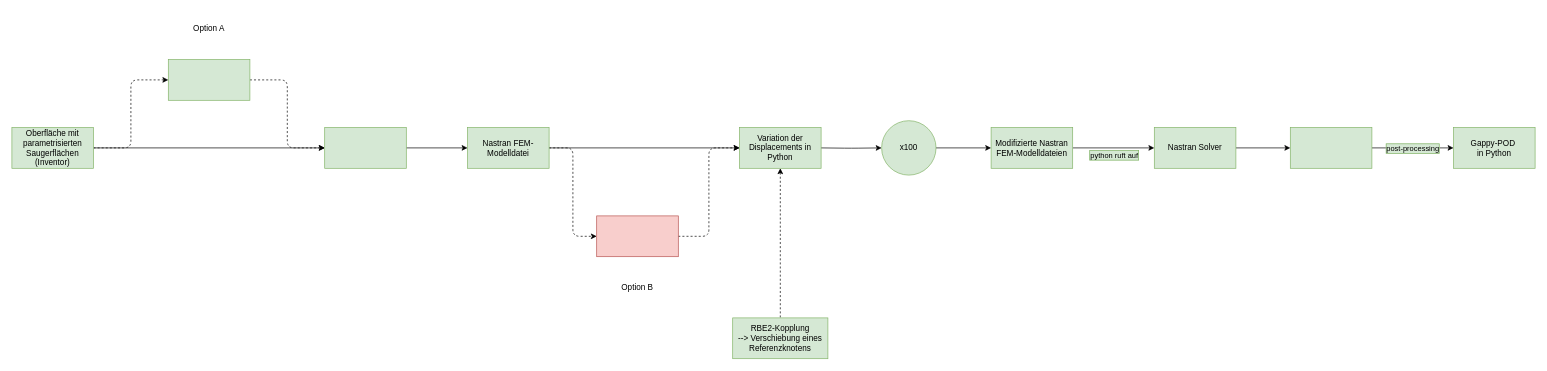
This 1547x371 diagram has some shape labels left out. The shapes that lost their labels are listed below. From the top down, each one's centre as x and y in pixels, then its label:
the point at 209,79: Verschiebung der Saugerflächen über iLogic in Inventor
the point at 365,147: Meshgeneration (in Nastran)
the point at 1331,147: Ergebnisse / Displacement Maps/
the point at 637,236: Verschiebung der Saugerflächen mit Python --> Manuelle Mesh Selection
